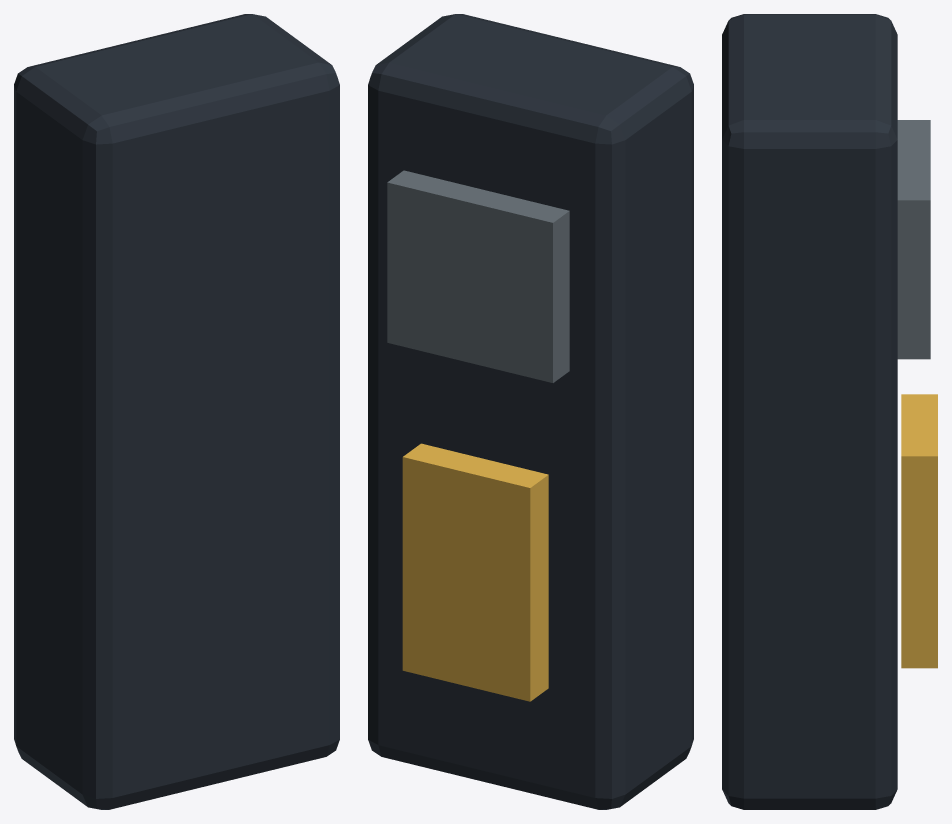
Rendered from intercom.glb.
The picture shows the model from 3 angles, left to right: view 1: azimuth 30°, elevation 25°; view 2: azimuth 150°, elevation 25°; view 3: azimuth 270°, elevation 25°; orthographic projection.
Parts seen in each view (by area): view 1: shell-apt-navy--1; view 2: shell-apt-navy--1, shell-apt-yellow--1, shell-apt-metal--1; view 3: shell-apt-navy--1, shell-apt-yellow--1, shell-apt-metal--1.
Part boxes in pixels (bbox=[...]): shell-apt-navy--1: bbox=[14, 14, 339, 809]; shell-apt-navy--1: bbox=[368, 14, 693, 809]; shell-apt-yellow--1: bbox=[402, 443, 548, 701]; shell-apt-metal--1: bbox=[387, 170, 569, 382]; shell-apt-navy--1: bbox=[722, 14, 897, 809]; shell-apt-yellow--1: bbox=[901, 394, 937, 668]; shell-apt-metal--1: bbox=[897, 120, 930, 359].
Size of the model in its own units: 0.2 by 0.52 by 0.1475.
